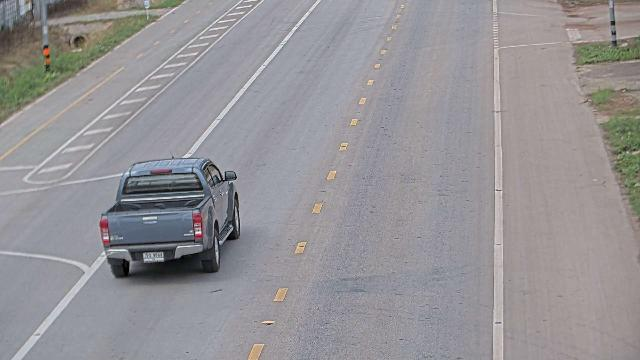pickup-truck: (98, 155, 241, 278)
